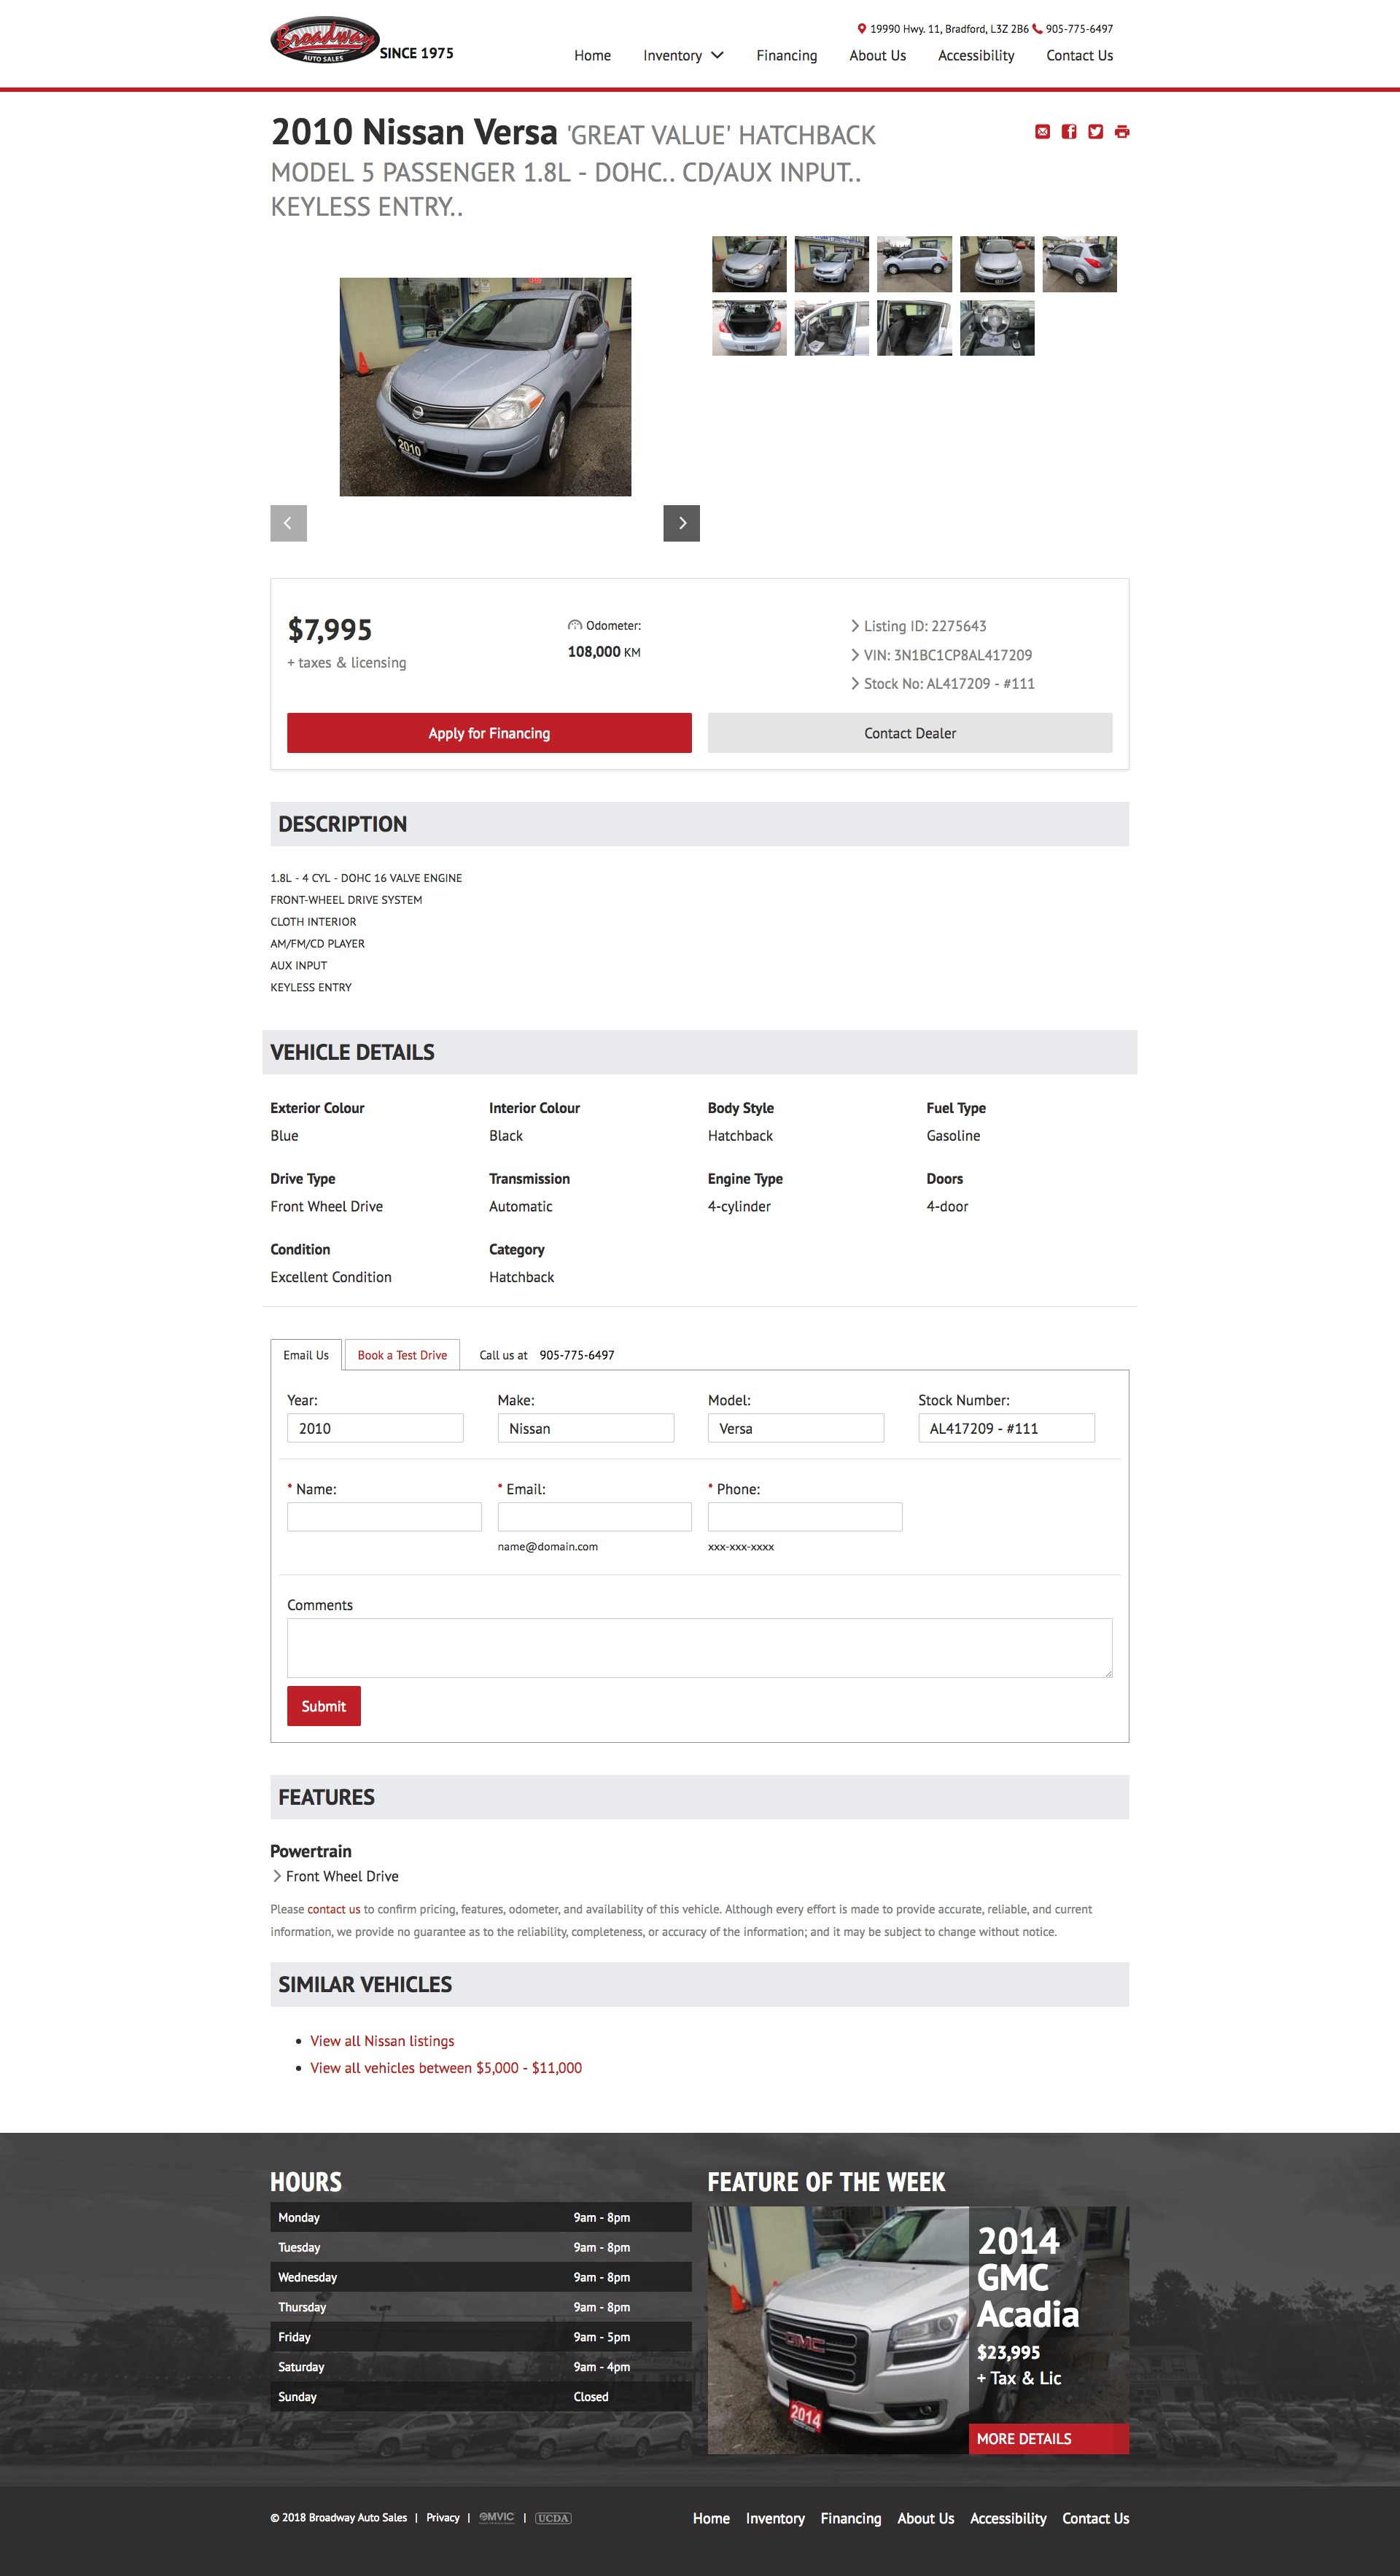car: (662, 505, 702, 544)
